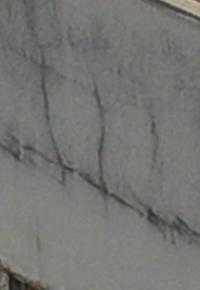fissura: (0, 120, 197, 262), (28, 49, 89, 187)
